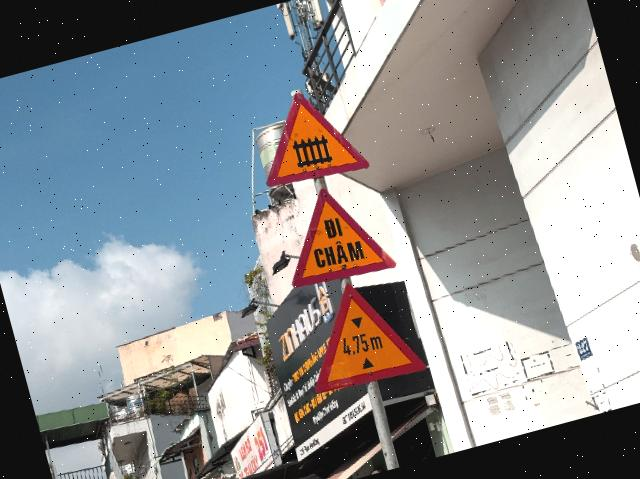chieu-cao-tinh-khong-thuc-te: (289, 268, 428, 400)
di-cham: (268, 174, 398, 294)
noi-giao-nhau-voi-duong-sat-co-rao-chan: (246, 77, 372, 194)
